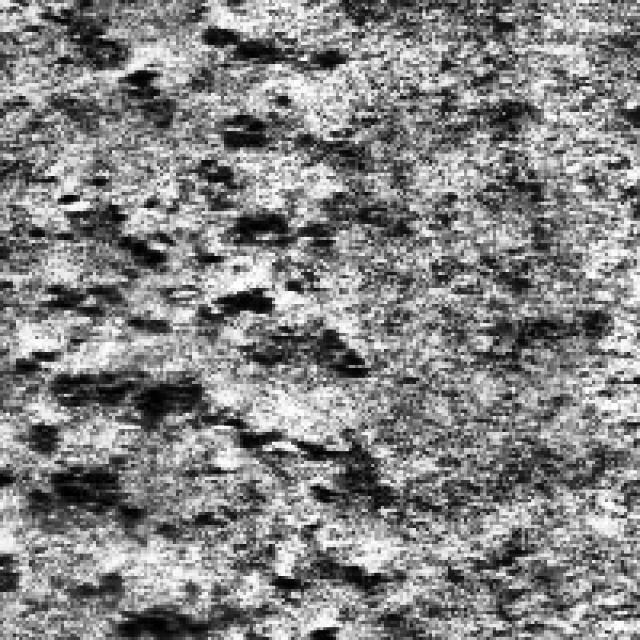Crazing: (3, 112, 355, 608)
